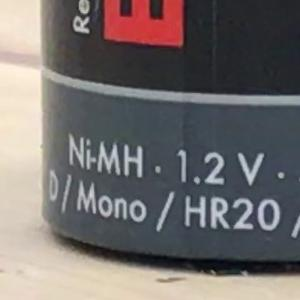keyword: (176, 190, 288, 237)
